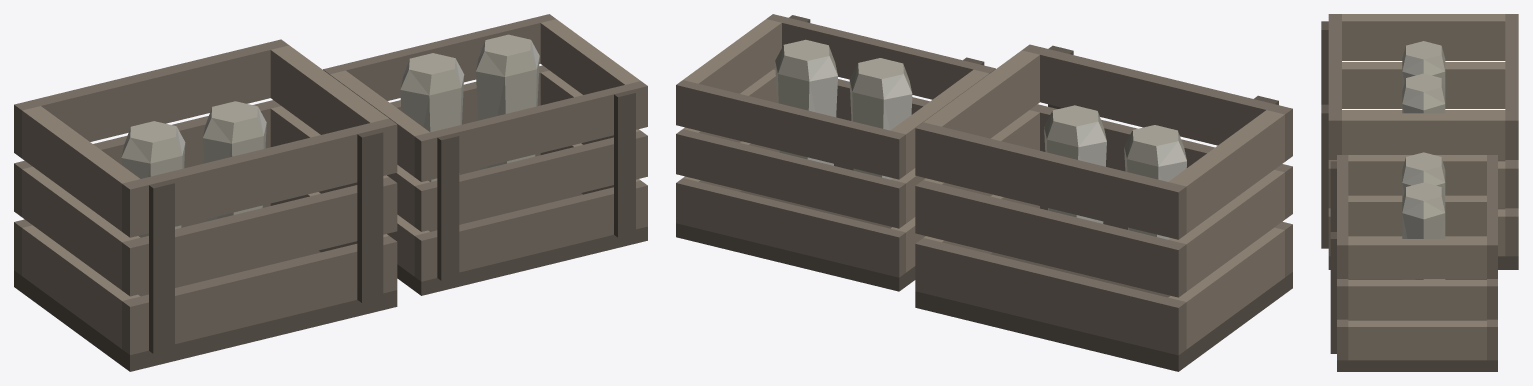
The model's file is food_crates.glb.
The picture shows the model from 3 angles, left to right: view 1: azimuth 30°, elevation 25°; view 2: azimuth 150°, elevation 25°; view 3: azimuth 270°, elevation 25°; orthographic projection. The views are drawn at different scales.
Parts seen in each view (by area): view 1: food_crates; view 2: food_crates; view 3: food_crates.
Boxes of the visible parts, x1=… form: food_crates: x1=14, y1=14, x2=647, y2=371; food_crates: x1=676, y1=14, x2=1292, y2=371; food_crates: x1=1321, y1=14, x2=1518, y2=371.
Bounding box in the file's own units: 3 × 1 × 1.2.
